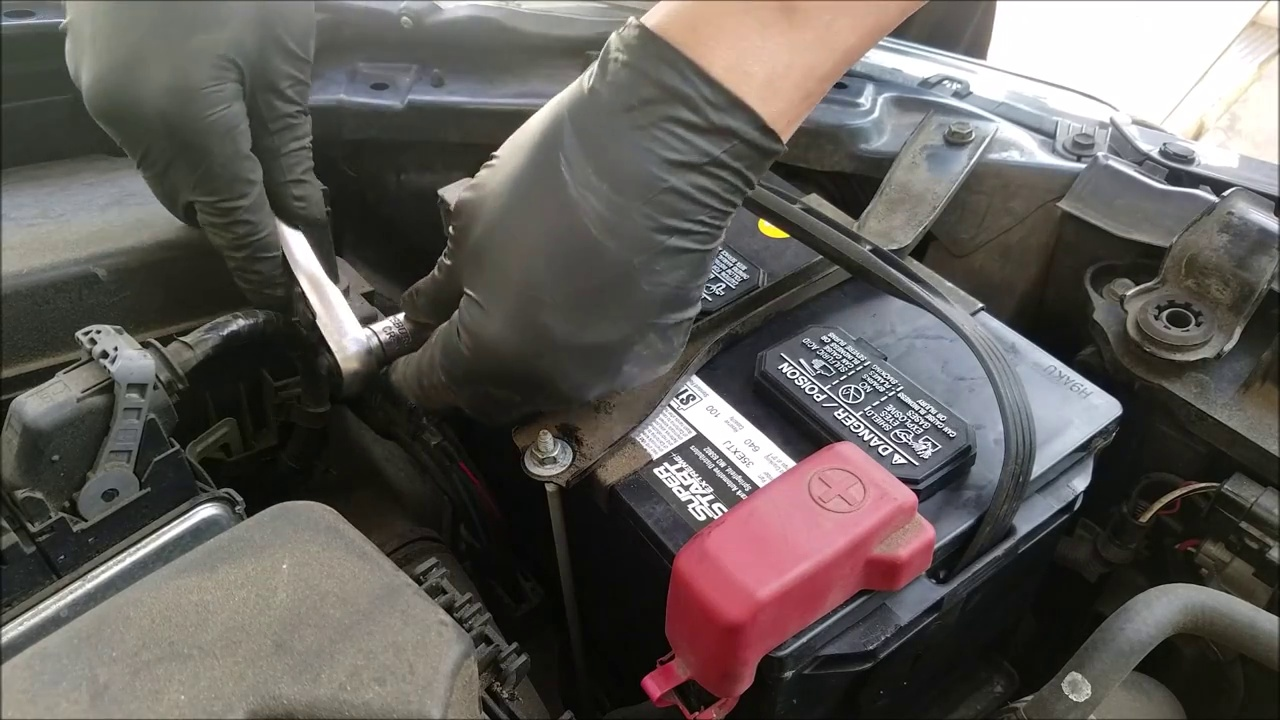battery: (568, 165, 1120, 665)
pos_connected: (622, 447, 939, 666)
